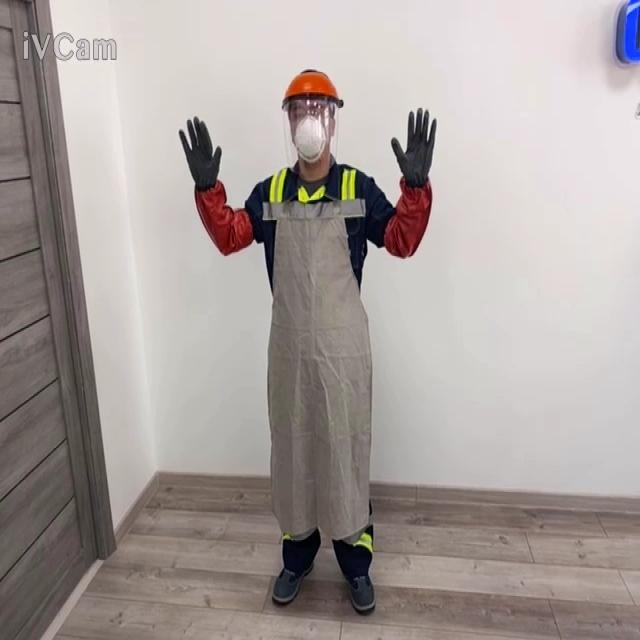Gloves: (178, 115, 221, 192)
Mask: (292, 112, 327, 164)
Protective apron: (261, 168, 373, 543)
Safety Shoes: (271, 561, 313, 603), (348, 572, 375, 612)
Sleeve: (193, 179, 254, 256), (383, 174, 432, 258)
gloves: (390, 107, 436, 188)
